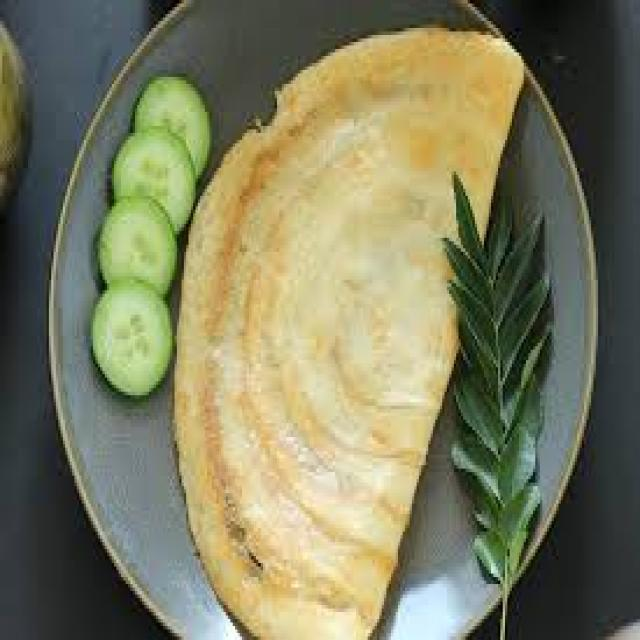DOSA: (177, 28, 521, 637)
